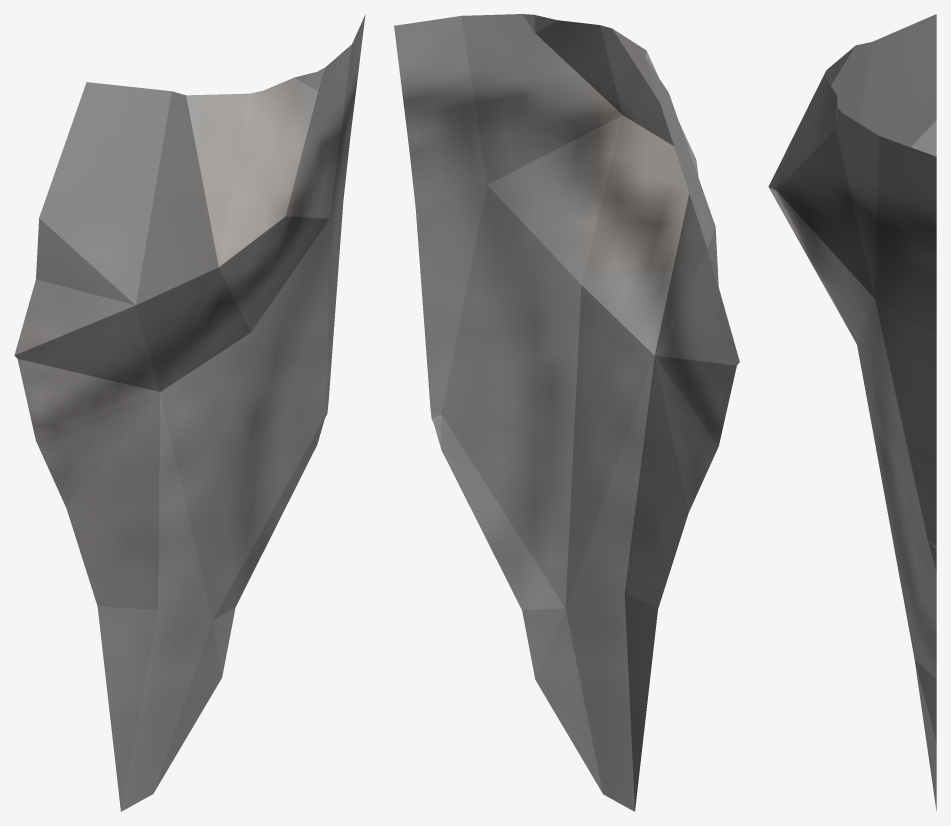
3 views of the same model, side by side, from view 1: azimuth 30°, elevation 25°; view 2: azimuth 150°, elevation 25°; view 3: azimuth 270°, elevation 25° (orthographic). The views are drawn at different scales.
Bounding box in the file's own units: 0.0671 × 0.1347 × 0.0265.
Materials: 1 (1 with a texture image).
